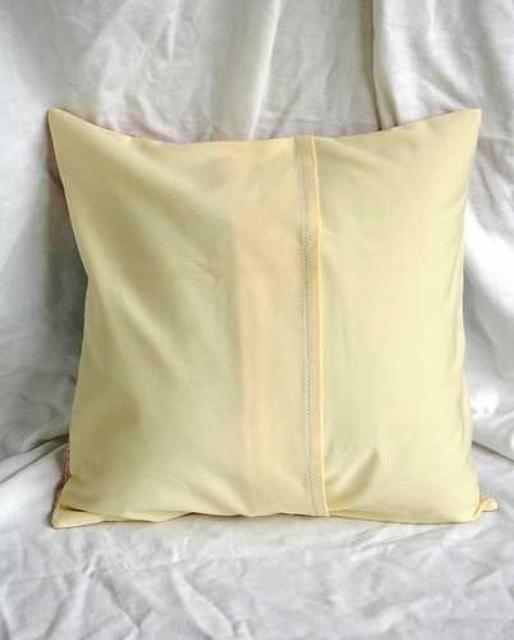pillow: (44, 103, 498, 527)
